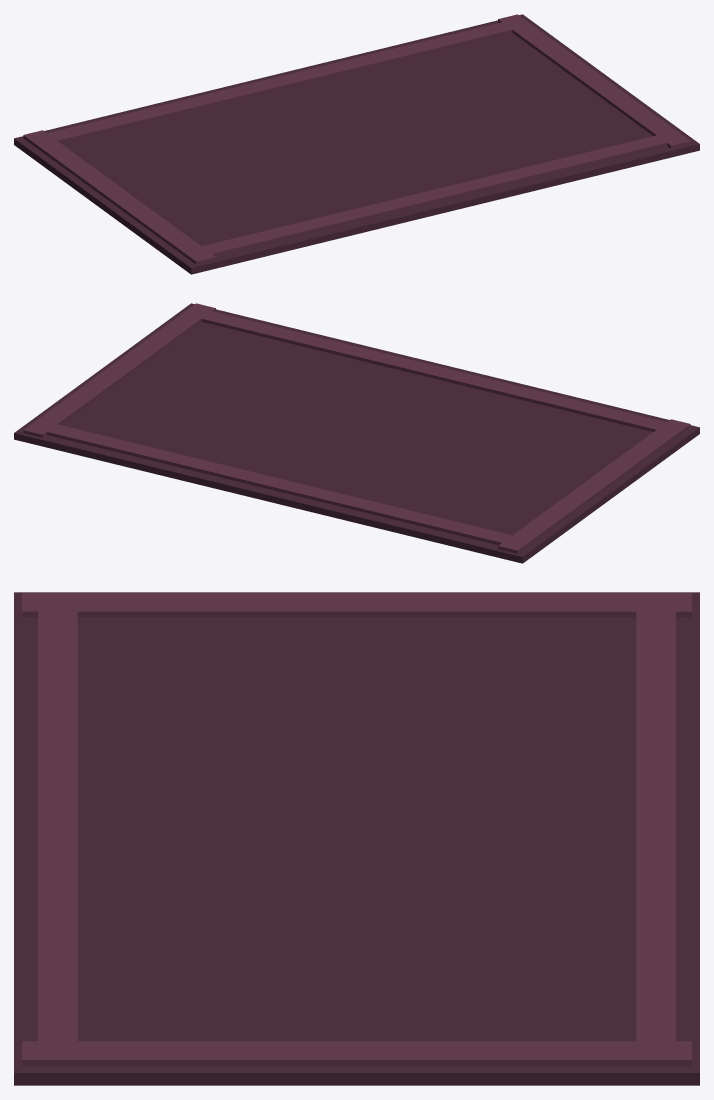
The model's file is worker_rug.glb.
3 renders of one model, top to bottom at view 1: azimuth 30°, elevation 25°; view 2: azimuth 150°, elevation 25°; view 3: azimuth 270°, elevation 25°, orthographic. The views are drawn at different scales.
Visible parts, largest first — view 1: worker_rug; view 2: worker_rug; view 3: worker_rug.
Part boxes in pixels (x1,y1,x2,y2): worker_rug: (14,14,699,274); worker_rug: (14,303,699,563); worker_rug: (14,592,699,1085).
Bounding box in the file's own units: 2.85 × 0.052 × 1.72.
